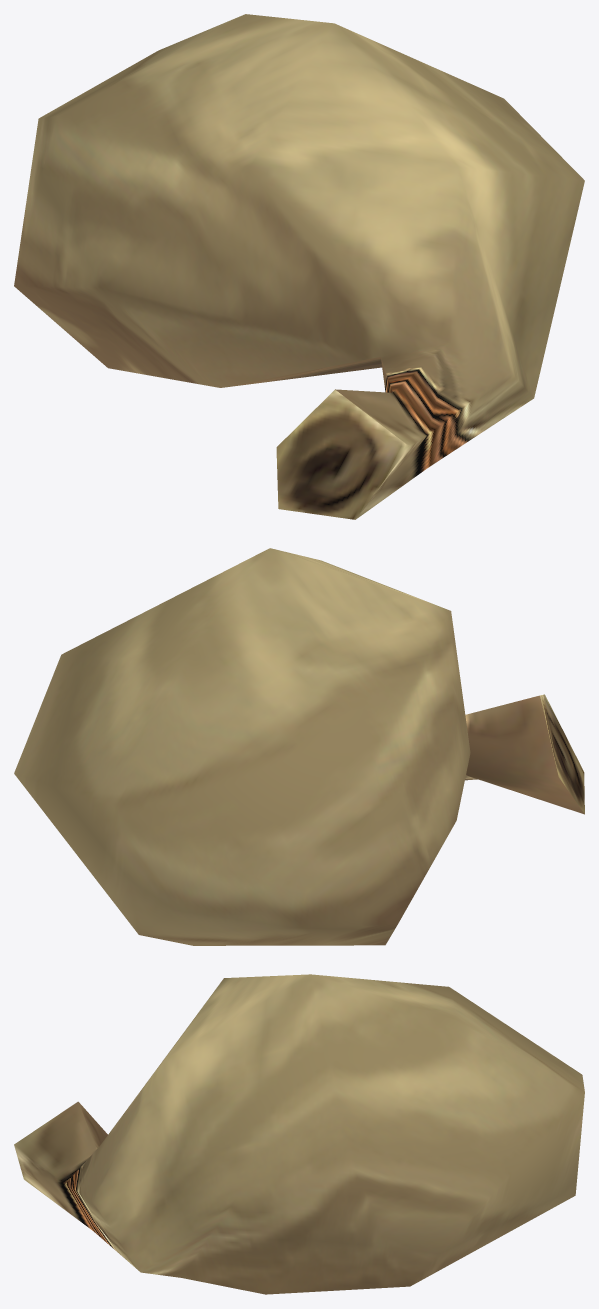
The model's file is BRB_bag.gltf.
The picture shows the model from 3 angles, top to bottom: view 1: azimuth 30°, elevation 25°; view 2: azimuth 150°, elevation 25°; view 3: azimuth 270°, elevation 25°; orthographic projection. The views are drawn at different scales.
Parts seen in each view (by area): view 1: WK_Xtra_bag; view 2: WK_Xtra_bag; view 3: WK_Xtra_bag.
Boxes of the visible parts, x1=… form: WK_Xtra_bag: x1=14, y1=14, x2=584, y2=519; WK_Xtra_bag: x1=14, y1=548, x2=584, y2=945; WK_Xtra_bag: x1=14, y1=974, x2=584, y2=1294.
Size of the model in its own units: 0.5402 by 0.4054 by 0.7599.
1 material, 1 textured.
